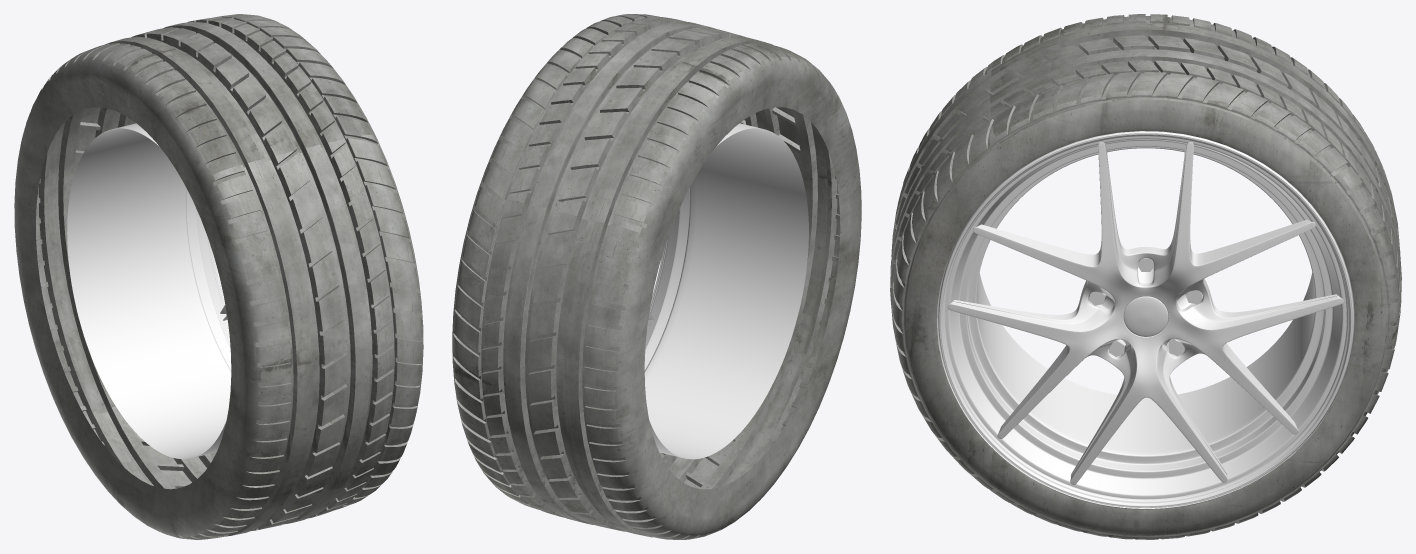
Rendered from wheel3.glb.
3 renders of one model, left to right at view 1: azimuth 30°, elevation 25°; view 2: azimuth 150°, elevation 25°; view 3: azimuth 270°, elevation 25°, orthographic.
Parts seen in each view (by area): view 1: Wheel.Bk.L; view 2: Wheel.Bk.L; view 3: Wheel.Bk.L.
Part boxes in pixels (bbox=[...]): Wheel.Bk.L: bbox=[14, 14, 423, 539]; Wheel.Bk.L: bbox=[452, 14, 861, 539]; Wheel.Bk.L: bbox=[890, 14, 1401, 539].
Bounding box in the file's own units: 0.2737 × 0.6548 × 0.6548.
Materials: 5 (2 with a texture image).
